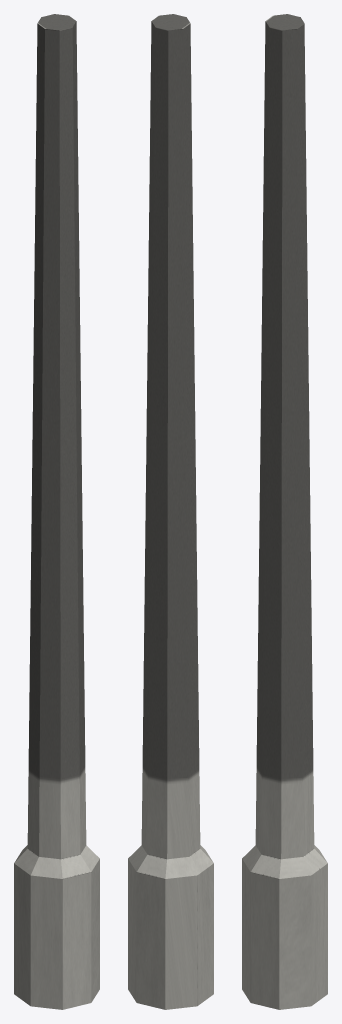
The model's file is street-lamp-pillar.gltf.
3 views of the same model, side by side, from view 1: azimuth 30°, elevation 25°; view 2: azimuth 150°, elevation 25°; view 3: azimuth 330°, elevation 25° (orthographic).
Parts seen in each view (by area): view 1: pillar; view 2: pillar; view 3: pillar.
Boxes of the visible parts, x1=… form: pillar: x1=14, y1=14, x2=99, y2=1009; pillar: x1=128, y1=14, x2=213, y2=1009; pillar: x1=242, y1=14, x2=327, y2=1009.
Bounding box in the file's own units: 0.5545 × 7.41 × 0.5545.
1 material, 1 textured.
